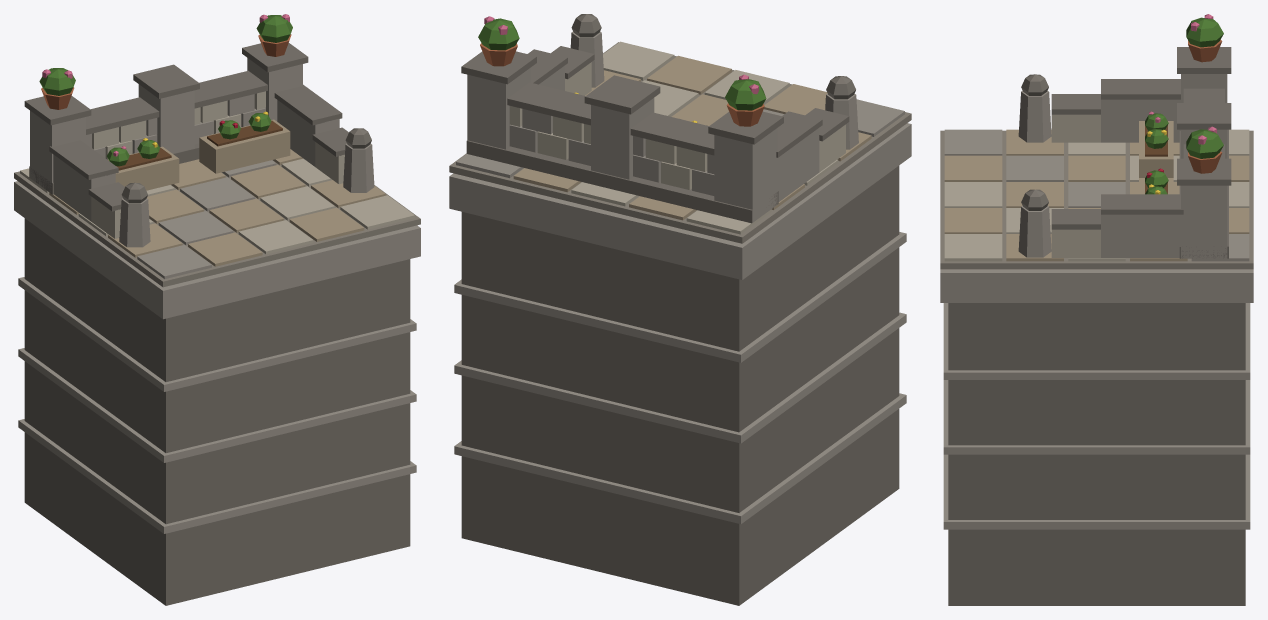
The model's file is decor_planter_wall.glb.
The picture shows the model from 3 angles, left to right: view 1: azimuth 30°, elevation 25°; view 2: azimuth 150°, elevation 25°; view 3: azimuth 270°, elevation 25°; orthographic projection. The views are drawn at different scales.
Parts seen in each view (by area): view 1: decor_planter_wall; view 2: decor_planter_wall; view 3: decor_planter_wall.
Part boxes in pixels (bbox=[...]): decor_planter_wall: bbox=[14, 14, 420, 605]; decor_planter_wall: bbox=[449, 14, 911, 605]; decor_planter_wall: bbox=[940, 14, 1253, 605].
Size of the model in its own units: 3.8 by 6.27 by 3.8.
